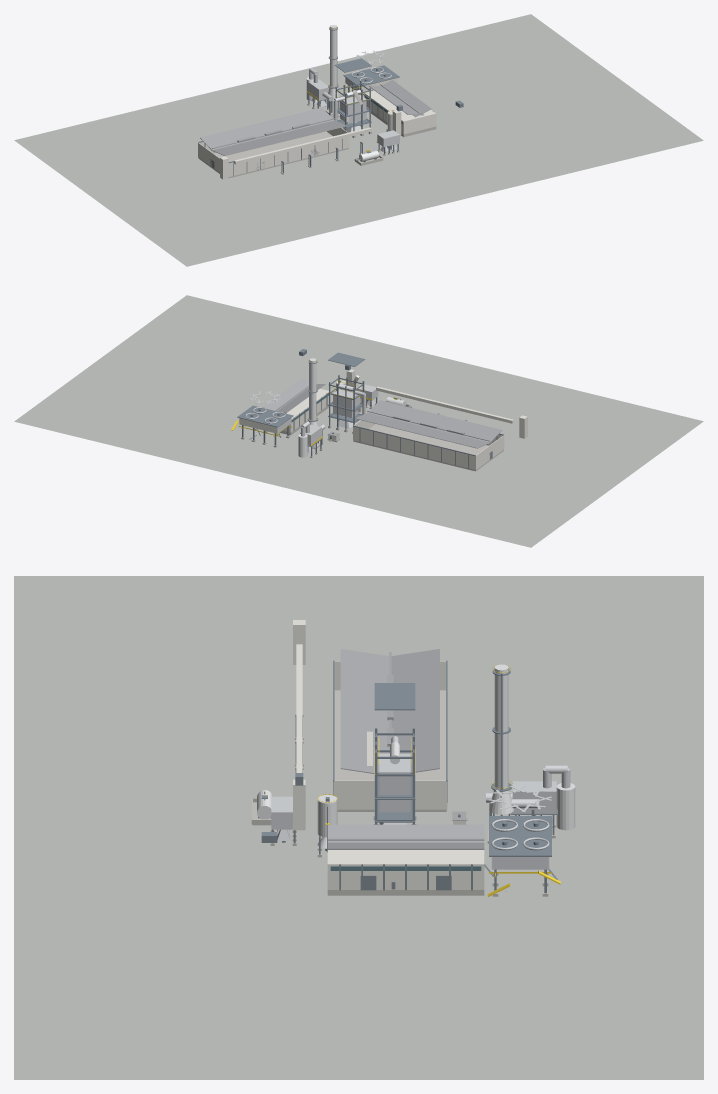
Rendered from sts-site-v1-layout-calibrated.glb.
The picture shows the model from 3 angles, top to bottom: view 1: azimuth 30°, elevation 25°; view 2: azimuth 150°, elevation 25°; view 3: azimuth 270°, elevation 25°; orthographic projection. The views are drawn at different scales.
Visible parts, largest first — view 1: Ground, BIO_Roof_N, BIO_Wall_S, BIO_Roof_S, TG_Mass, BIO_Base, CONV_Gallery, TG_Roof_S, BOIL_Core, ACC_Deck, STACK_Barrel; view 2: Ground, BIO_Roof_S, BIO_Wall_N, BIO_Roof_N, BIO_Base, CONV_Gallery, TG_Mass, BOIL_Core, TG_Roof_S, STACK_Barrel, ACC_Deck, BIO_Wall_W; view 3: Ground, TG_Mass, BIO_Roof_S, BIO_Roof_N, TG_Roof_N, BIO_Wall_E, BIO_Base, STACK_Barrel, ACC_Deck, BOIL_Core, BOIL_Platform_24, TG_Roof_S (+4 smaller).
Part boxes in pixels (x1=…): Ground: x1=14, y1=14, x2=703, y2=266; BIO_Roof_N: x1=200, y1=107, x2=334, y2=152; BIO_Wall_S: x1=228, y1=137, x2=348, y2=176; BIO_Roof_S: x1=211, y1=120, x2=346, y2=155; TG_Mass: x1=364, y1=90, x2=436, y2=134; BIO_Base: x1=198, y1=131, x2=348, y2=178; CONV_Gallery: x1=234, y1=127, x2=371, y2=164; TG_Roof_S: x1=381, y1=80, x2=431, y2=117; BOIL_Core: x1=340, y1=94, x2=366, y2=123; ACC_Deck: x1=343, y1=65, x2=399, y2=87; STACK_Barrel: x1=330, y1=25, x2=336, y2=87; Ground: x1=14, y1=295, x2=703, y2=547; BIO_Roof_S: x1=368, y1=400, x2=502, y2=444; BIO_Wall_N: x1=353, y1=426, x2=475, y2=469; BIO_Roof_N: x1=355, y1=413, x2=491, y2=448; BIO_Base: x1=353, y1=424, x2=503, y2=471; CONV_Gallery: x1=376, y1=386, x2=513, y2=423; TG_Mass: x1=283, y1=388, x2=328, y2=432; BOIL_Core: x1=333, y1=389, x2=359, y2=417; TG_Roof_S: x1=262, y1=378, x2=308, y2=411; STACK_Barrel: x1=309, y1=358, x2=316, y2=420; ACC_Deck: x1=237, y1=405, x2=293, y2=427; BIO_Wall_W: x1=475, y1=435, x2=504, y2=469; Ground: x1=14, y1=576, x2=703, y2=1079; TG_Mass: x1=327, y1=850, x2=484, y2=889; BIO_Roof_S: x1=340, y1=649, x2=388, y2=773; BIO_Roof_N: x1=391, y1=649, x2=439, y2=772; TG_Roof_N: x1=327, y1=824, x2=484, y2=849; BIO_Wall_E: x1=334, y1=780, x2=446, y2=809; BIO_Base: x1=334, y1=690, x2=446, y2=811; STACK_Barrel: x1=494, y1=664, x2=508, y2=788; ACC_Deck: x1=489, y1=816, x2=551, y2=856; BOIL_Core: x1=379, y1=753, x2=410, y2=812; BOIL_Platform_24: x1=374, y1=683, x2=415, y2=710; TG_Roof_S: x1=327, y1=842, x2=484, y2=848.
Size of the model in its own units: 380 by 82.67 by 220.
